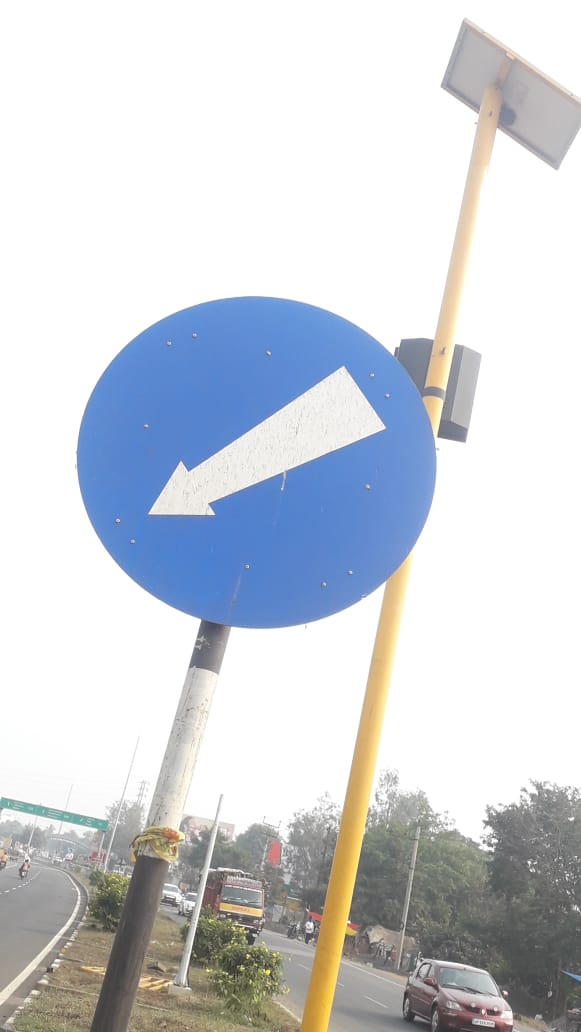go left: (74, 302, 454, 663)
